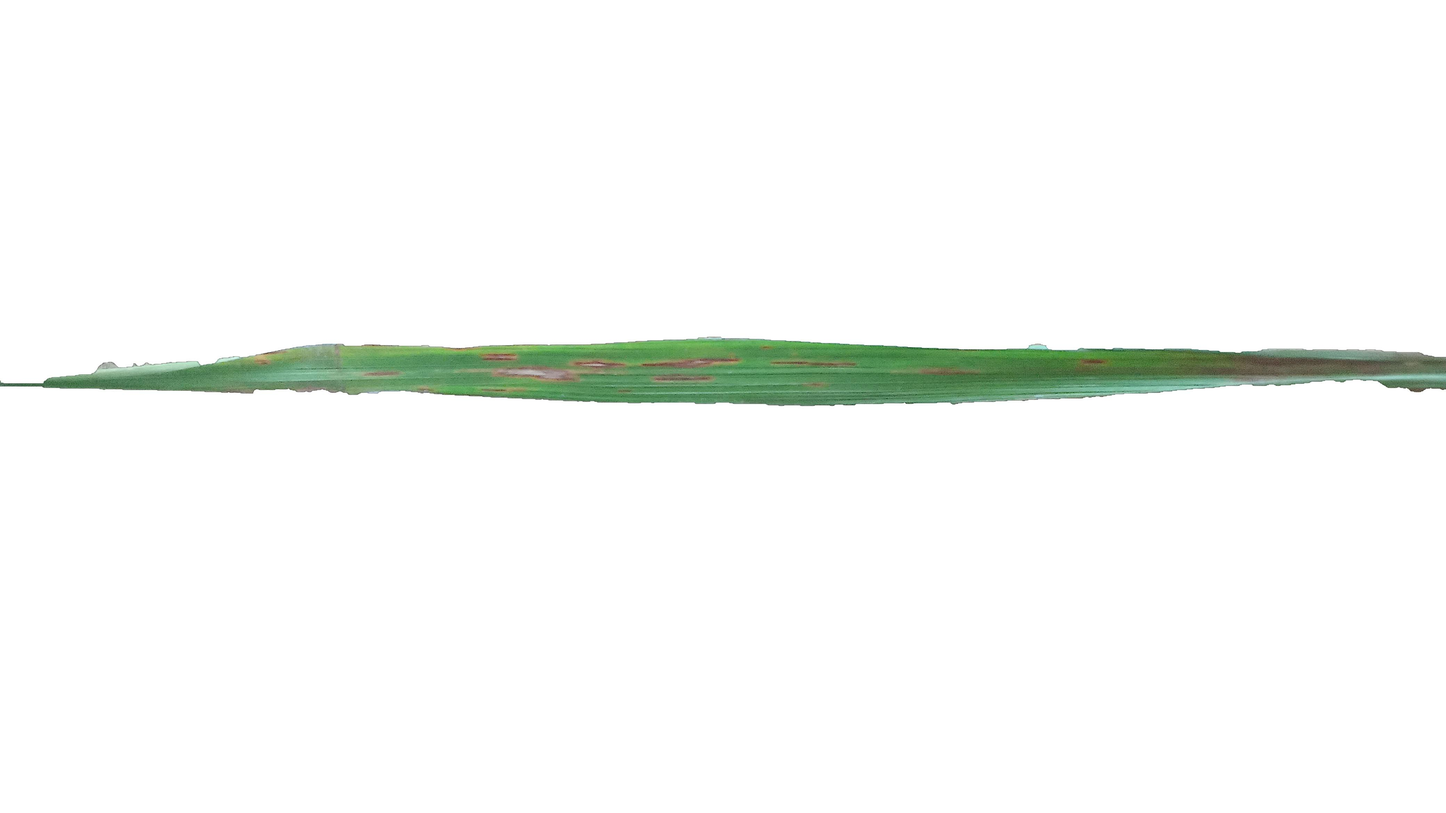Rice blast: (487, 347, 746, 396), (763, 354, 871, 387), (355, 361, 412, 387)
